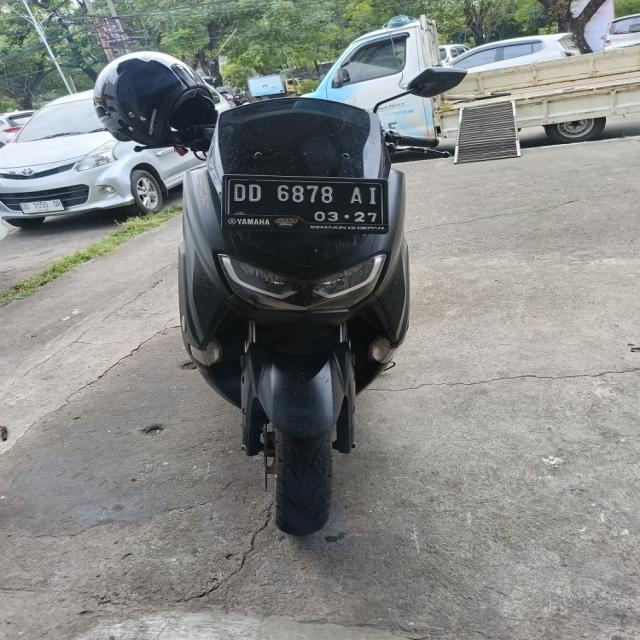plates: (235, 175, 390, 228)
